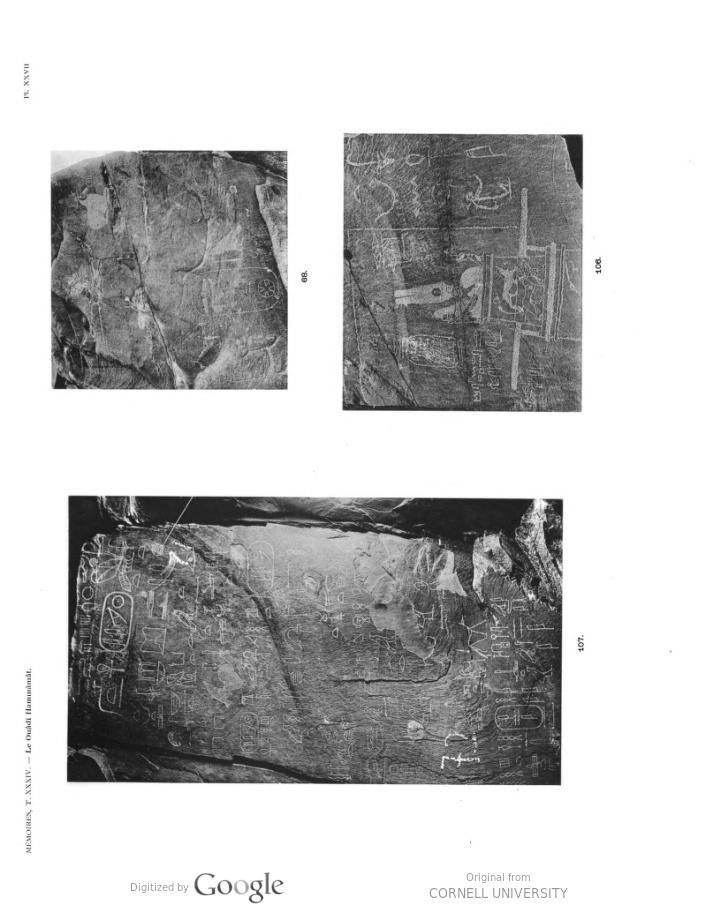circle: (178, 250, 292, 331), (240, 531, 288, 613), (475, 694, 558, 739), (97, 583, 136, 665), (237, 701, 267, 763)
